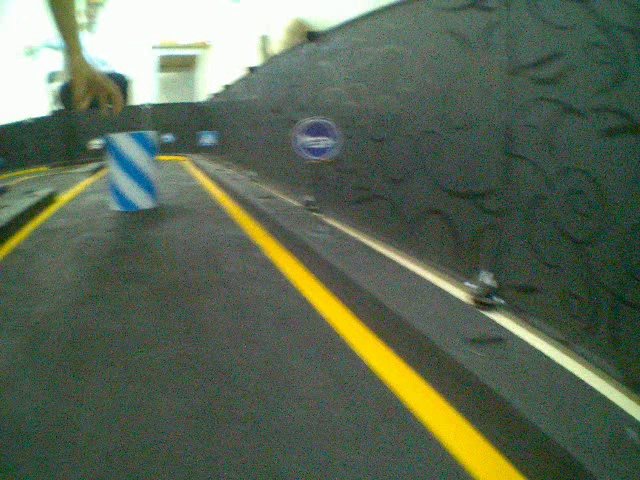bucket: (105, 130, 159, 212)
